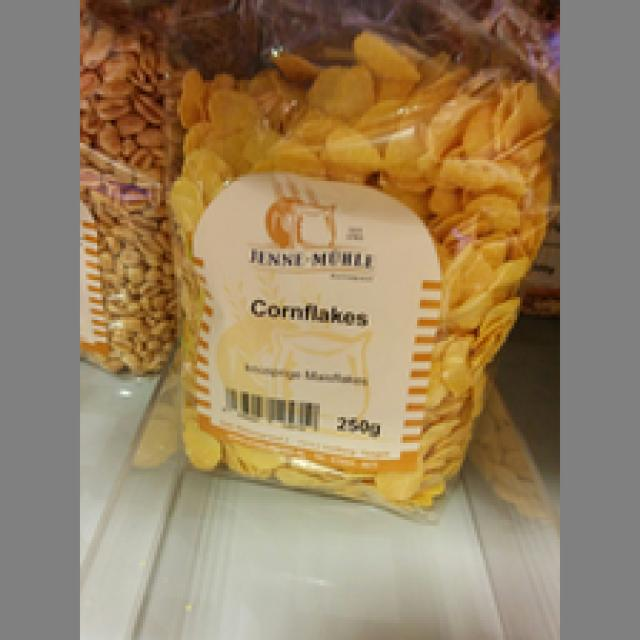groceries: (137, 54, 554, 512)
